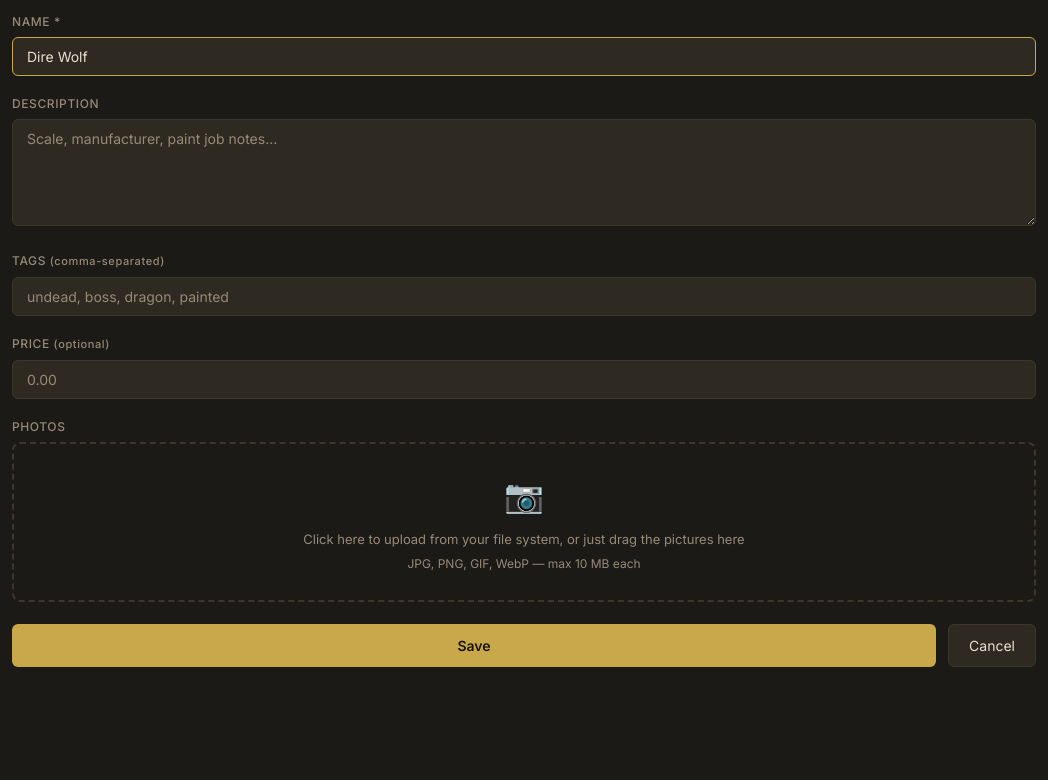
Test: MiniForm › shows the error from a failed save and re-enables the button
What coordinates should you click on to do the following:
click the button "Save"
I would click on:
 (474, 645)
Its box is [12,624,936,667].
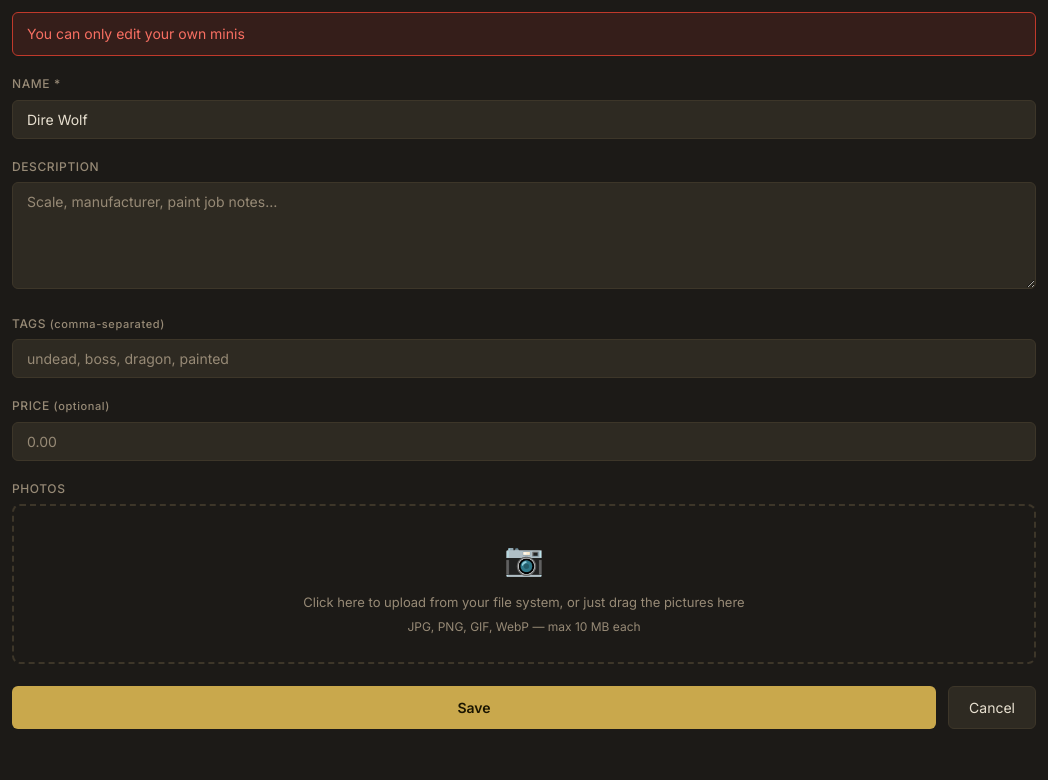
Expected: the button "Save" is enabled, [12,686,936,729]
Result: the text "You can only edit your own minis" is shown at [12,12,1036,56]
